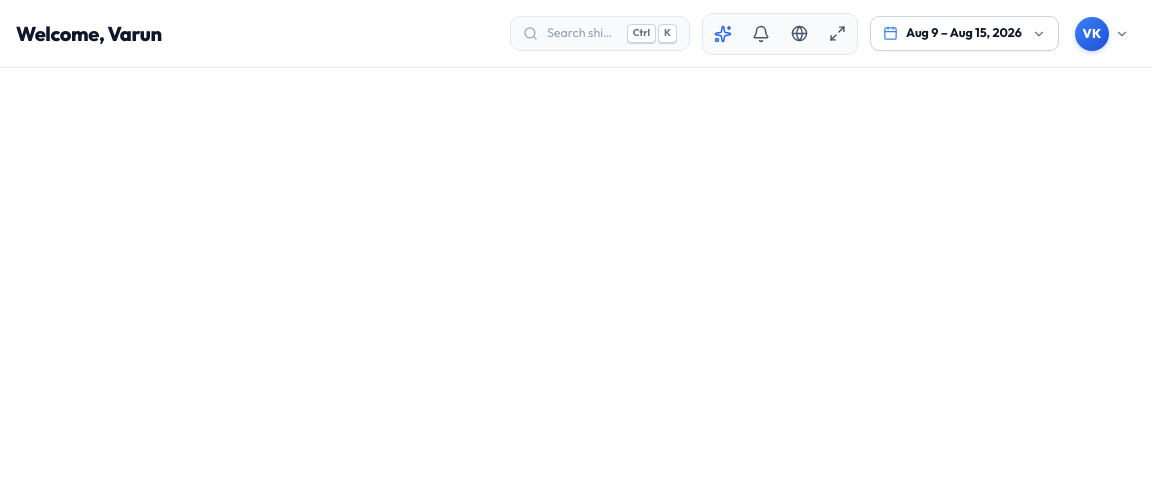
Test case: TopBar Global Header Component › toggles notifications, globe locale popover, date picker, and user profile popover with mutual exclusion
// Open Globe
Click the button named "Language & Region Settings".
click(799, 34)  # box [782,16,816,50]
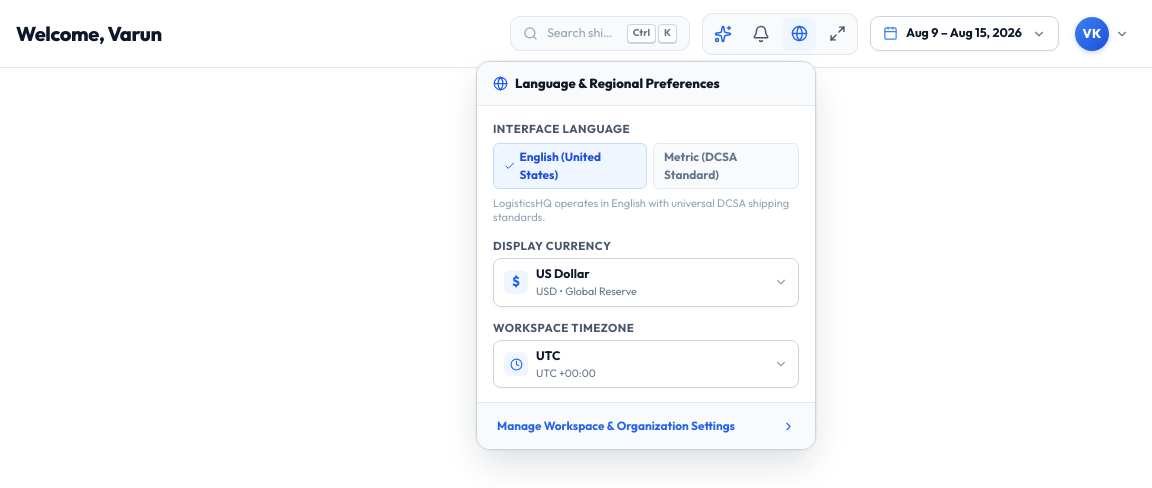
Expected: the text "Language & Regional Preferences" is shown, [515,74,720,93]
// Open Profile (should close Globe)
Click the button with aria-label "User Account Menu".
click(1102, 34)  # box [1075,16,1129,50]
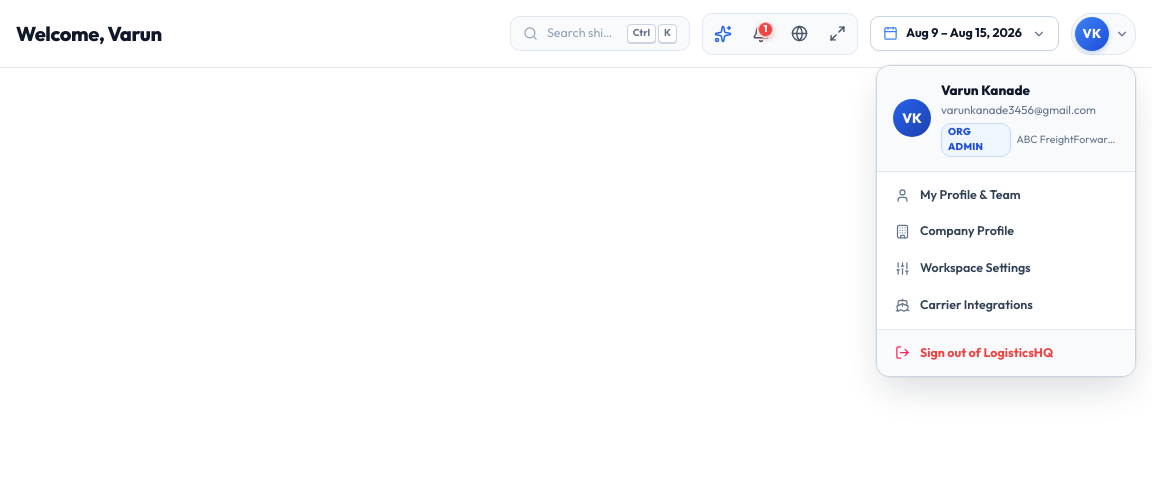
Expected: the text "Language & Regional Preferences" is gone
Expected: the text "varunkanade3456@gmail.com" is shown, [941,101,1119,118]
Expected: the text "Org Admin" is shown, [941,123,1010,157]
